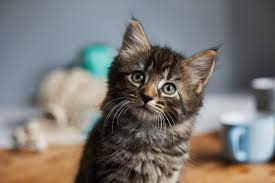cat: (88, 20, 213, 183)
